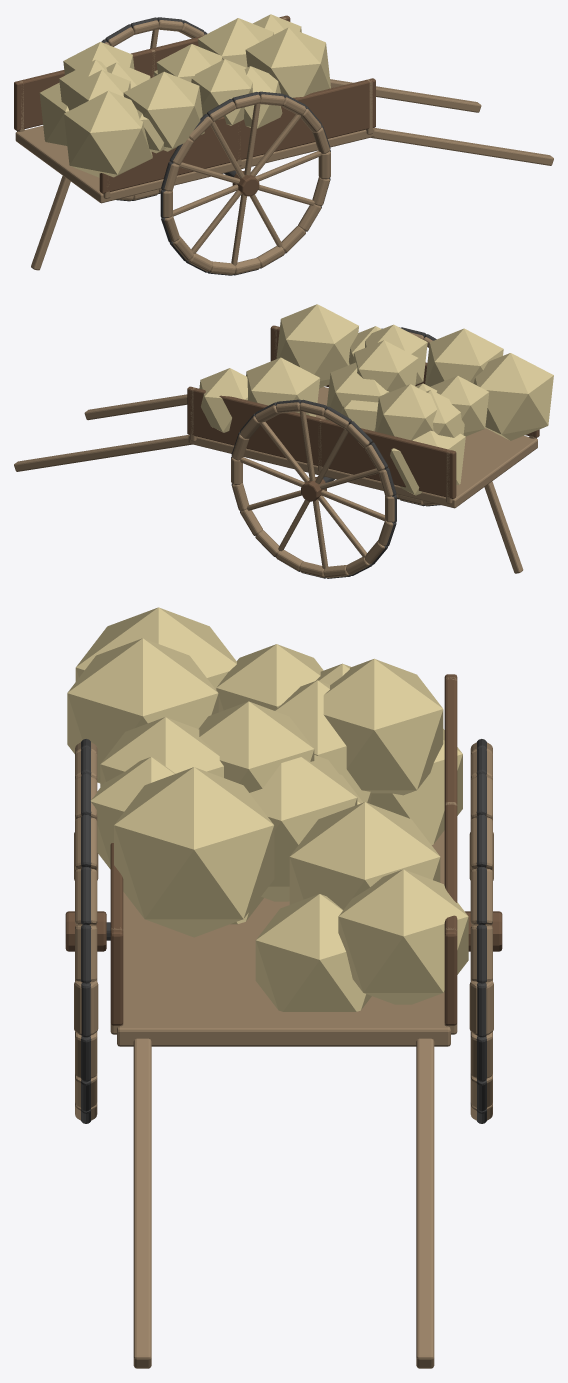
Rendered from FarmCart.fbx.
3 renders of one model, top to bottom at view 1: azimuth 30°, elevation 25°; view 2: azimuth 150°, elevation 25°; view 3: azimuth 270°, elevation 25°, orthographic. The views are drawn at different scales.
Parts seen in each view (by area): view 1: FarmCart; view 2: FarmCart; view 3: FarmCart.
Part boxes in pixels (bbox=[...]): FarmCart: bbox=[14, 14, 553, 275]; FarmCart: bbox=[14, 304, 553, 578]; FarmCart: bbox=[65, 607, 502, 1368].
Bounding box in the file's own units: 4.23 × 1.74 × 1.7.
